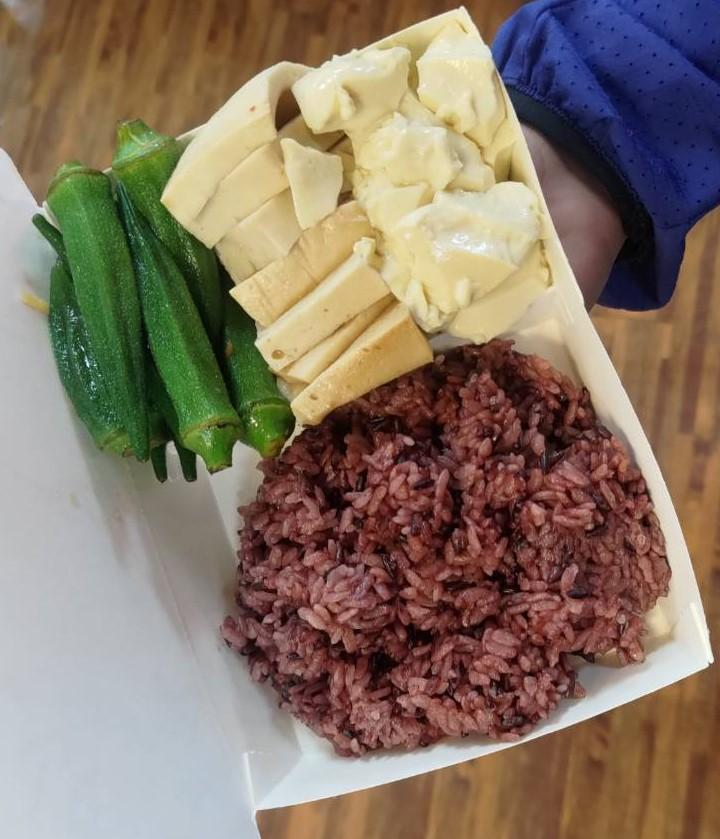big grilled chicken leg: (26, 8, 720, 815)
braised fish: (223, 341, 670, 759)
braised fish fillet: (154, 47, 430, 419), (36, 126, 291, 475), (314, 14, 567, 339)
